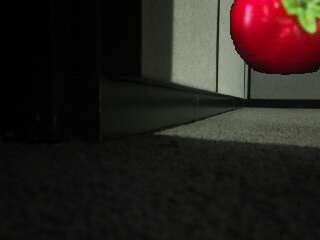Tomato: (229, 0, 319, 75)
